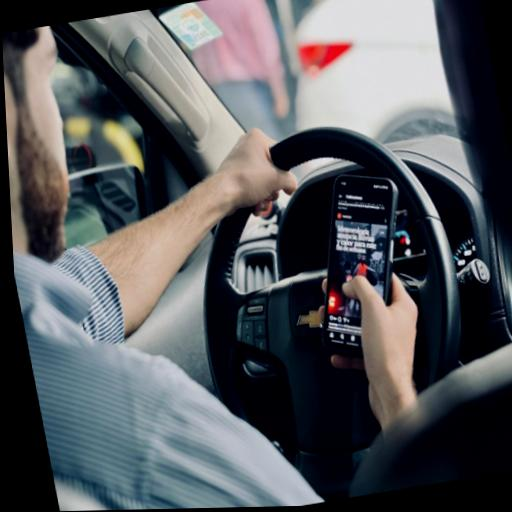Hands-on-the-Wheel: (180, 110, 317, 241)
